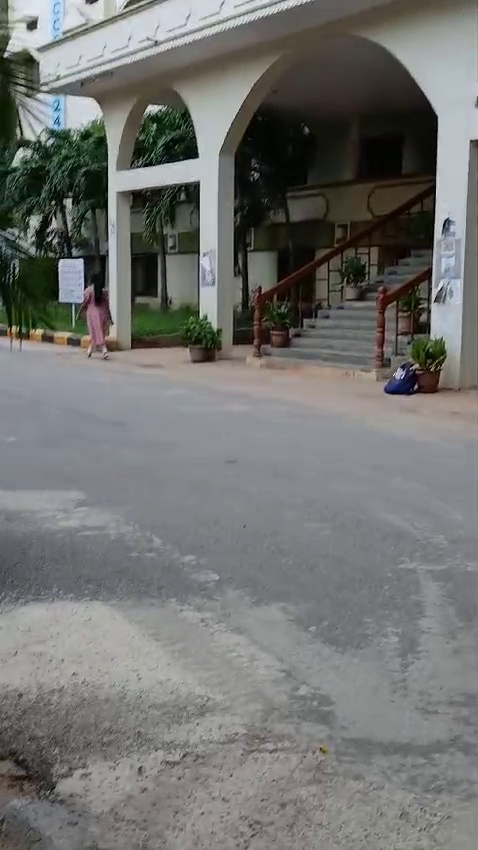bag: (383, 361, 417, 401)
